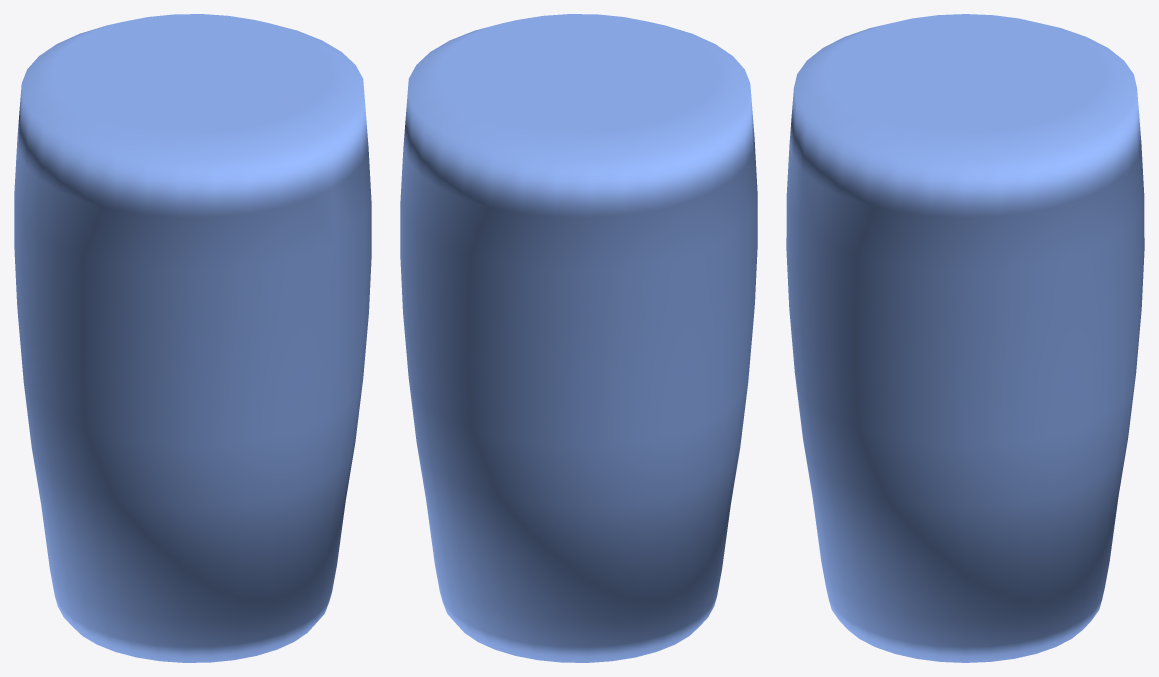
File: blendShapeWater.fbx
3 views of the same model, side by side, from view 1: azimuth 30°, elevation 25°; view 2: azimuth 150°, elevation 25°; view 3: azimuth 270°, elevation 25° (orthographic).
Visible parts, largest first — view 1: Water; view 2: Water; view 3: Water.
Boxes of the visible parts, x1=… form: Water: x1=14, y1=14, x2=371, y2=662; Water: x1=400, y1=14, x2=757, y2=662; Water: x1=786, y1=14, x2=1144, y2=662.
Size of the model in its own units: 12.33 by 21.02 by 12.33.
